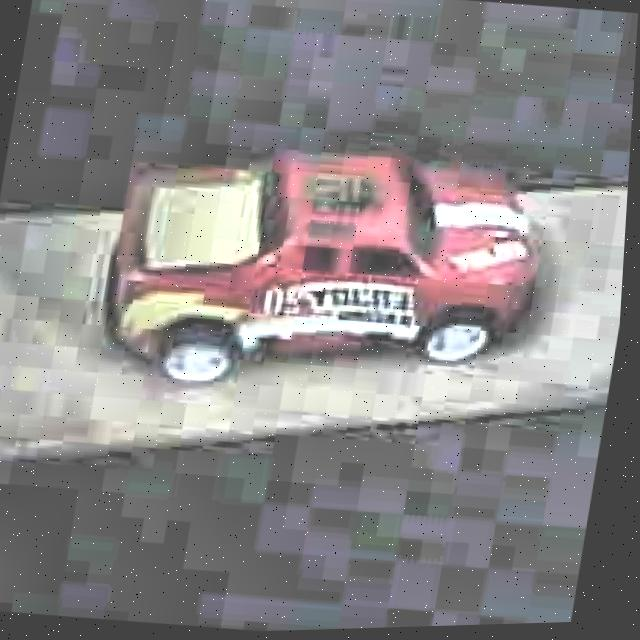car: (83, 116, 565, 428)
